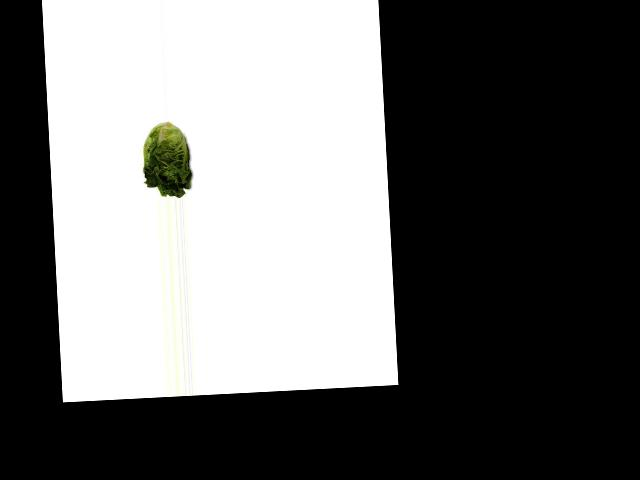lettuce: (136, 120, 195, 197)
